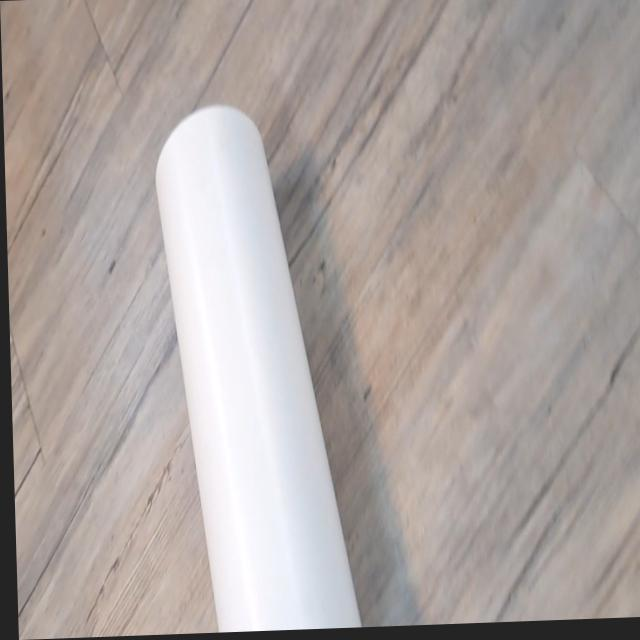CORAL: (141, 85, 369, 635)
